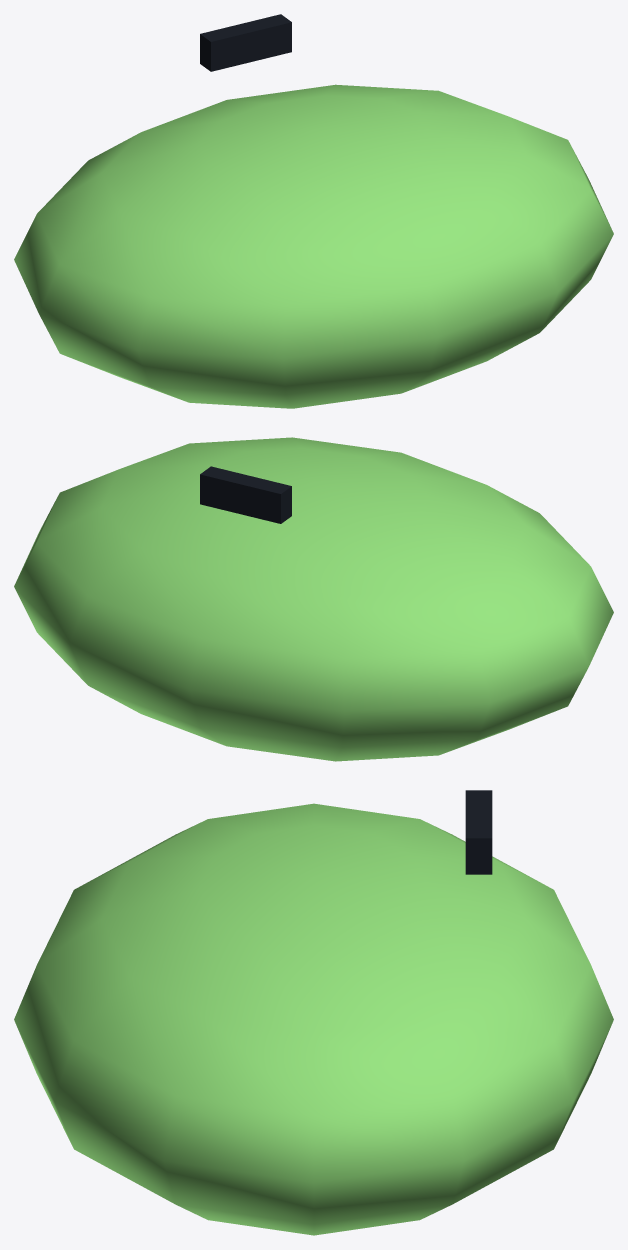
File: enemy-playground-mire-leech-v1.glb
3 views of the same model, one above another, from view 1: azimuth 30°, elevation 25°; view 2: azimuth 150°, elevation 25°; view 3: azimuth 270°, elevation 25° (orthographic). The views are drawn at different scales.
Parts seen in each view (by area): view 1: Mire Leech; view 2: Mire Leech; view 3: Mire Leech.
Boxes of the visible parts, <box> form: Mire Leech: <box>14,14,613,408</box>; Mire Leech: <box>14,437,613,761</box>; Mire Leech: <box>14,790,613,1235</box>.
Size of the model in its own units: 2.31 by 1.15 by 1.8.
